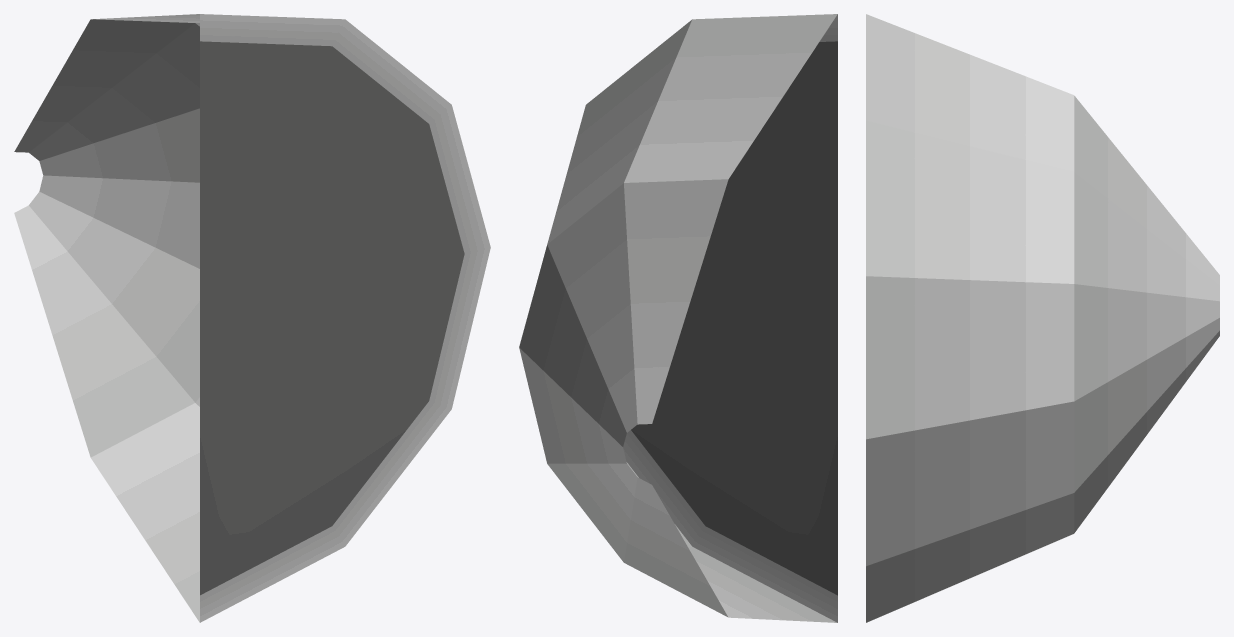
The model's file is pz_native_lighting_indoor_02_76_wall_lamp.obj.
3 renders of one model, left to right at view 1: azimuth 30°, elevation 25°; view 2: azimuth 150°, elevation 25°; view 3: azimuth 270°, elevation 25°, orthographic. The views are drawn at different scales.
Parts seen in each view (by area): view 1: pz_native_lighting_indoor_02_76_wall_lamp; view 2: pz_native_lighting_indoor_02_76_wall_lamp; view 3: pz_native_lighting_indoor_02_76_wall_lamp.
Boxes of the visible parts, x1=… form: pz_native_lighting_indoor_02_76_wall_lamp: x1=14, y1=14, x2=490, y2=622; pz_native_lighting_indoor_02_76_wall_lamp: x1=519, y1=14, x2=837, y2=622; pz_native_lighting_indoor_02_76_wall_lamp: x1=866, y1=14, x2=1219, y2=622.
Bounding box in the file's own units: 0.2113 × 0.4226 × 0.2336.
Materials: 1 (1 with a texture image).
